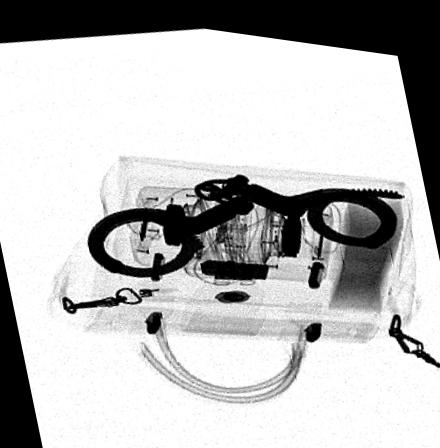HandCuffs: (86, 166, 404, 273)
